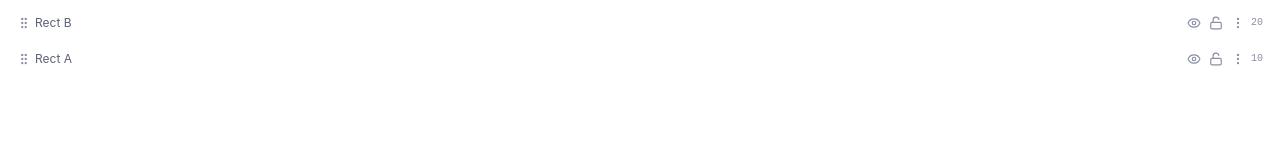
Test: Designer2 ObjectsPanel — layer row actions (M4) › does not rename on Escape
Double-click the button "Rect A".
double_click(53, 58)  # box [35,51,1181,67]
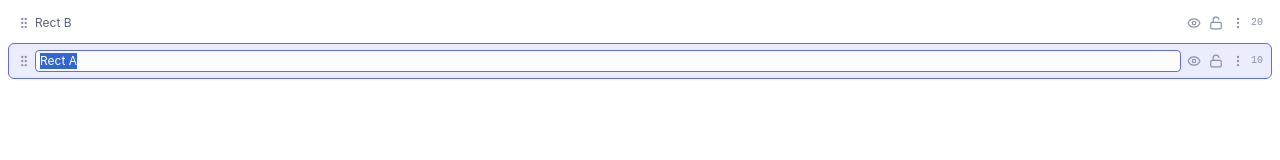
Type "X" into the field showing "Rect A".
click(608, 61); type("X")  # box [35,50,1181,72]
Then press Escape
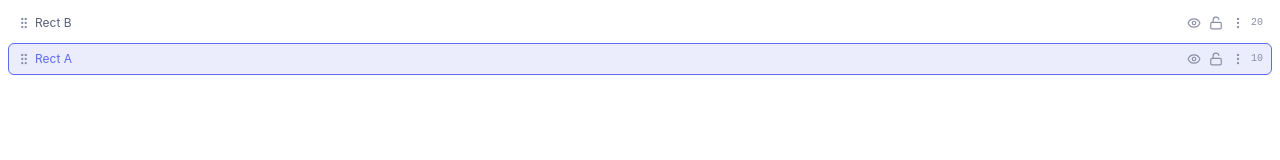
Check: the text "Rect A" is shown, box [35,51,72,66]
